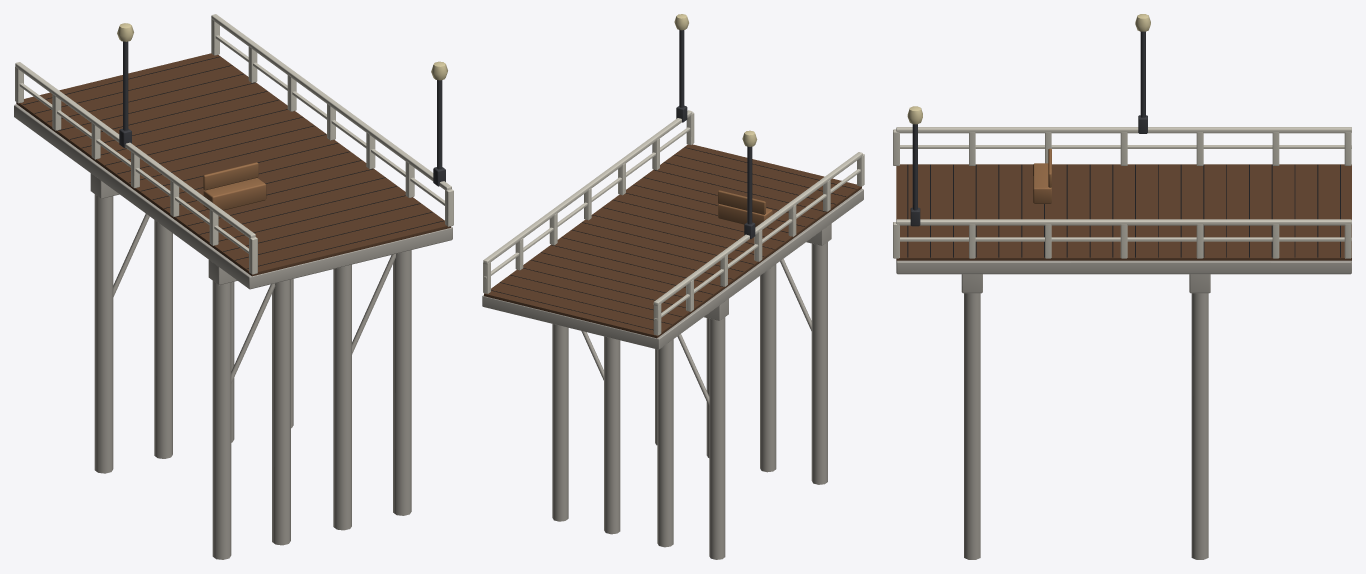
The model's file is PierSpan.fbx.
3 renders of one model, left to right at view 1: azimuth 30°, elevation 25°; view 2: azimuth 150°, elevation 25°; view 3: azimuth 270°, elevation 25°, orthographic. The views are drawn at different scales.
Visible parts, largest first — view 1: PierSpan; view 2: PierSpan; view 3: PierSpan.
Boxes of the visible parts, box(x1,y1,x2,y2) form: PierSpan: box(14, 14, 453, 559); PierSpan: box(482, 14, 864, 559); PierSpan: box(893, 14, 1351, 559).
Bounding box in the file's own units: 6.17 × 13.16 × 12.09.
